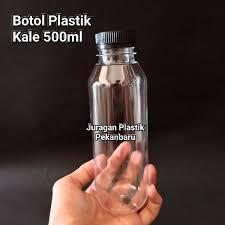BIODEGRADABLE: (79, 28, 153, 217)
